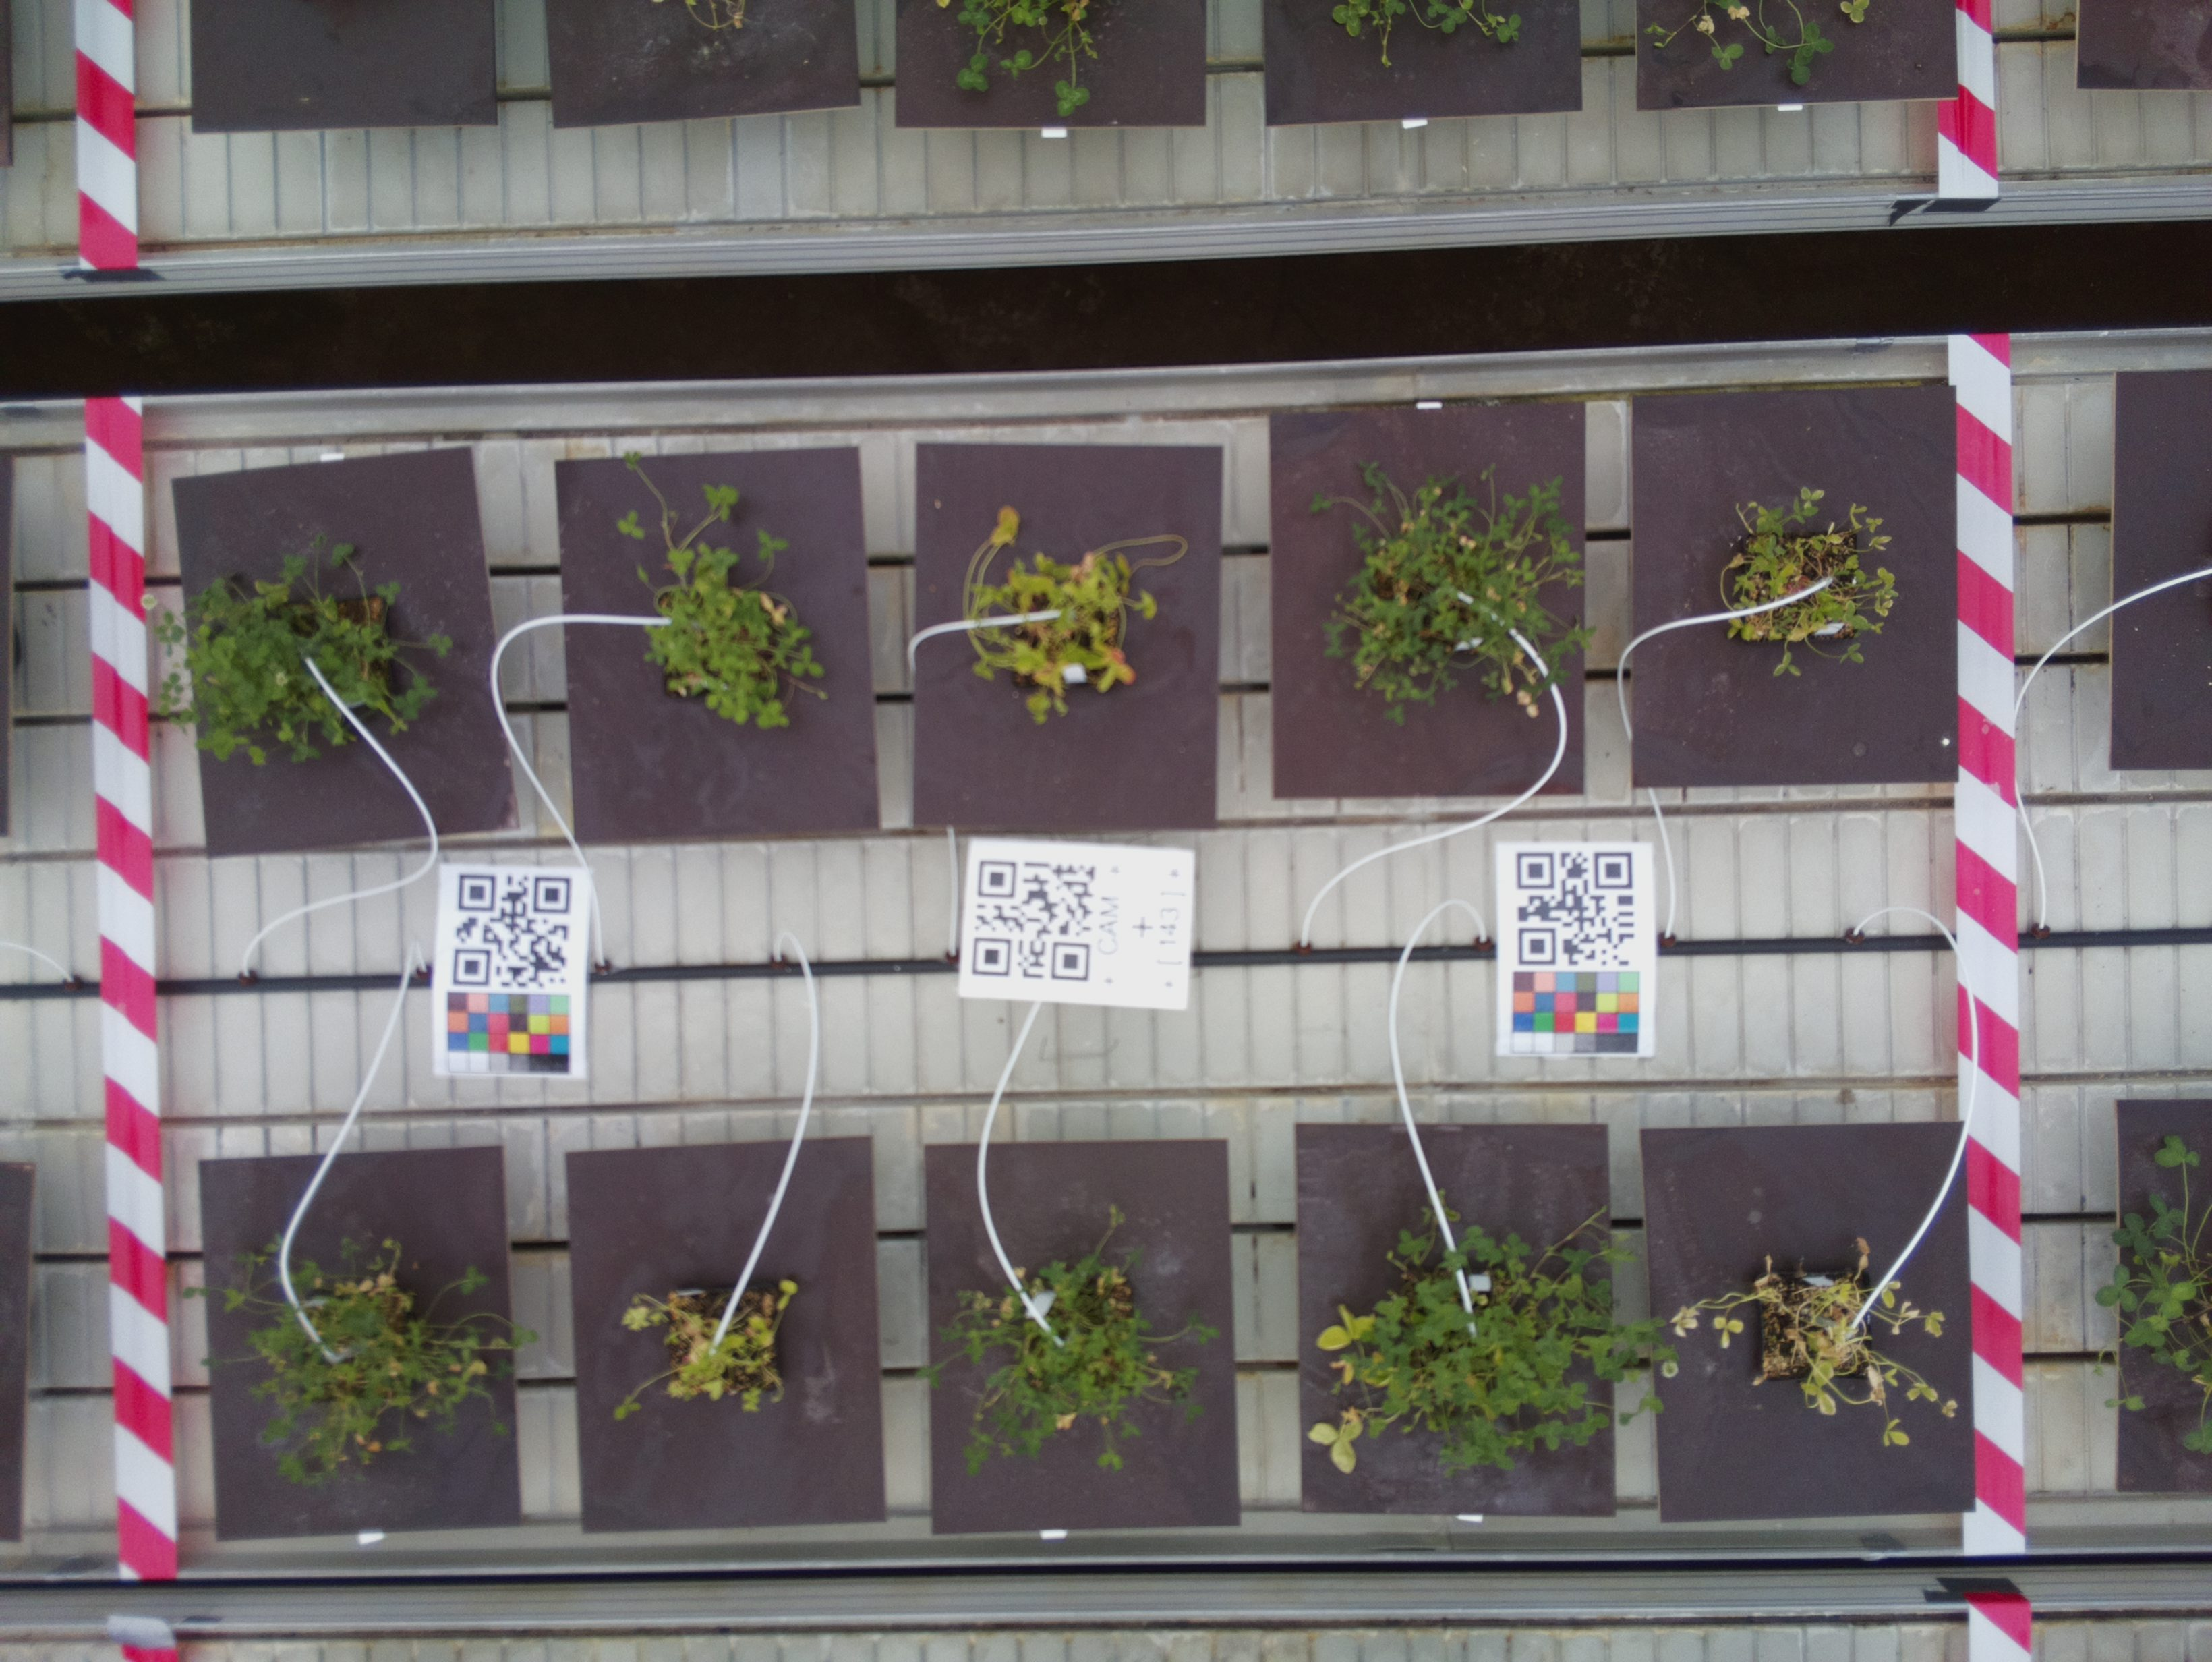POT: (1638, 1128, 1983, 1514), (1295, 1123, 1618, 1517), (1638, 396, 1969, 780), (175, 473, 512, 848), (1273, 409, 1589, 796), (548, 461, 878, 831), (925, 1142, 1238, 1522), (569, 1156, 887, 1522), (917, 443, 1224, 822), (204, 1163, 519, 1528)
QRCODE: (958, 838, 1201, 1013)
QRCOLOR: (1496, 838, 1660, 1063), (435, 864, 592, 1082)
